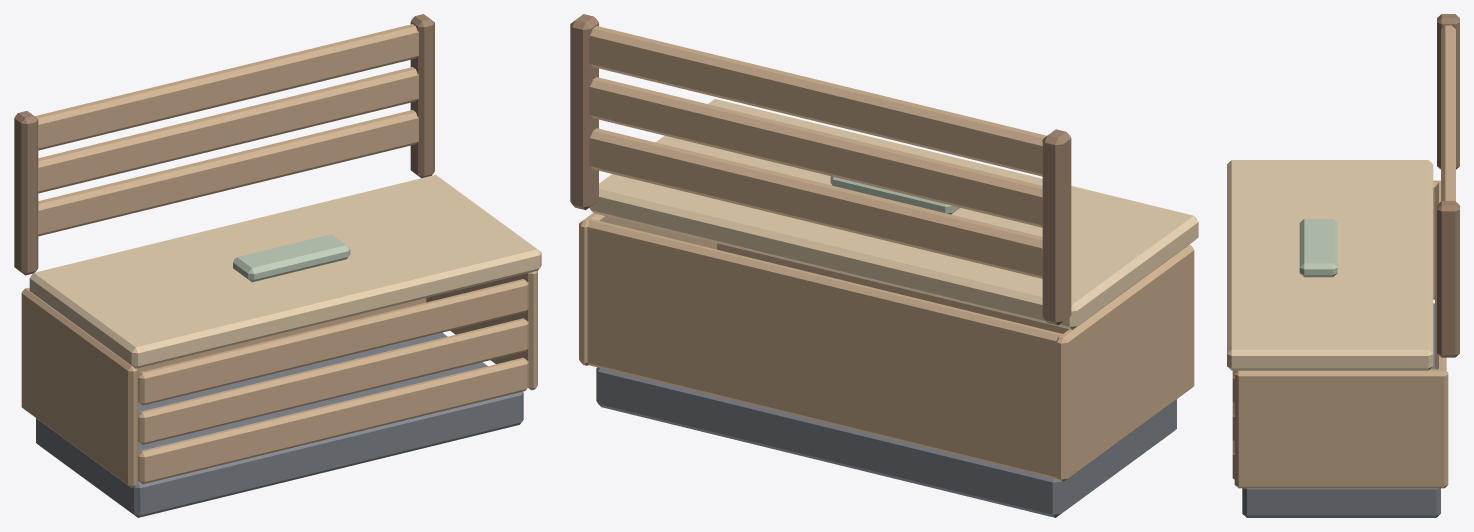
The model's file is OutdoorStorageBench.glb.
3 views of the same model, side by side, from view 1: azimuth 30°, elevation 25°; view 2: azimuth 150°, elevation 25°; view 3: azimuth 270°, elevation 25° (orthographic). The views are drawn at different scales.
Parts seen in each view (by area): view 1: OutdoorStorageBench_Body, OutdoorStorageBench_Lid; view 2: OutdoorStorageBench_Body, OutdoorStorageBench_Lid; view 3: OutdoorStorageBench_Lid, OutdoorStorageBench_Body.
Part boxes in pixels (box(x1,y1,x2,y2)): OutdoorStorageBench_Body: box(14, 14, 537, 517); OutdoorStorageBench_Lid: box(29, 175, 541, 368); OutdoorStorageBench_Body: box(570, 14, 1194, 517); OutdoorStorageBench_Lid: box(589, 99, 1198, 329); OutdoorStorageBench_Lid: box(1227, 160, 1433, 370); OutdoorStorageBench_Body: box(1232, 14, 1459, 517).
Bounding box in the file's own units: 1.21 × 0.92 × 0.61.
